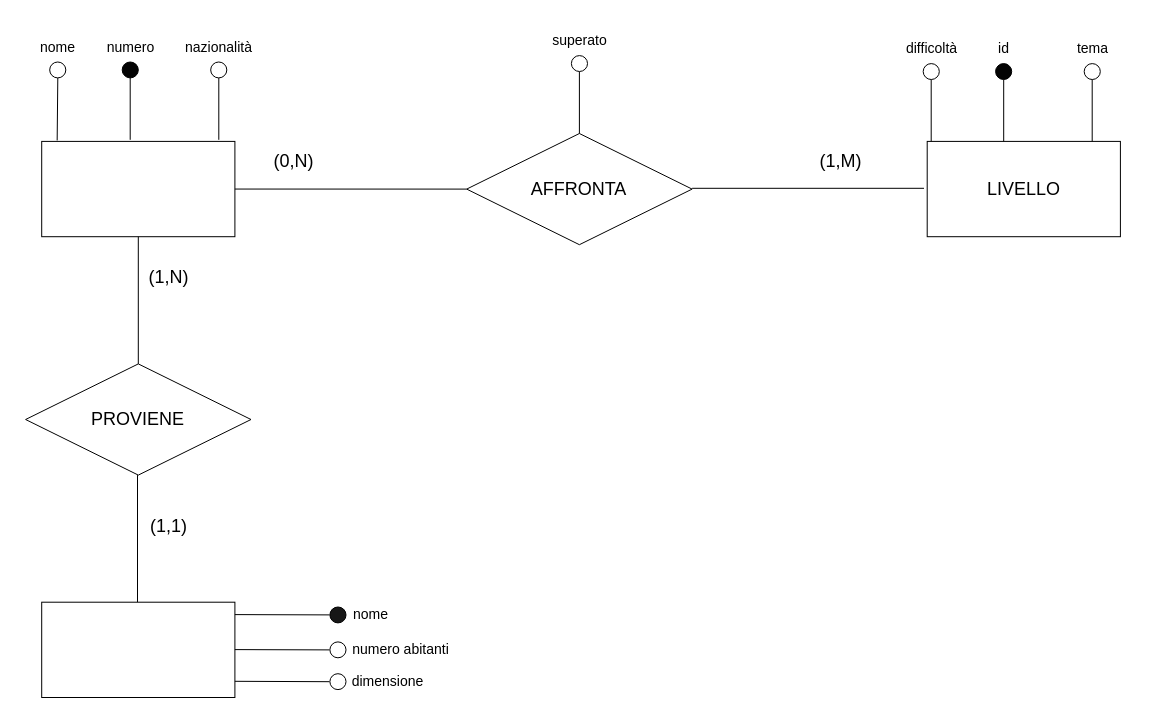
Image size: 1149x722. Some labels were removed from this diagram. Each missing label, with the centre of its shape:
"PERSONAGGIO" belongs at point (138, 188).
"QUARTIERE" belongs at point (138, 649).
